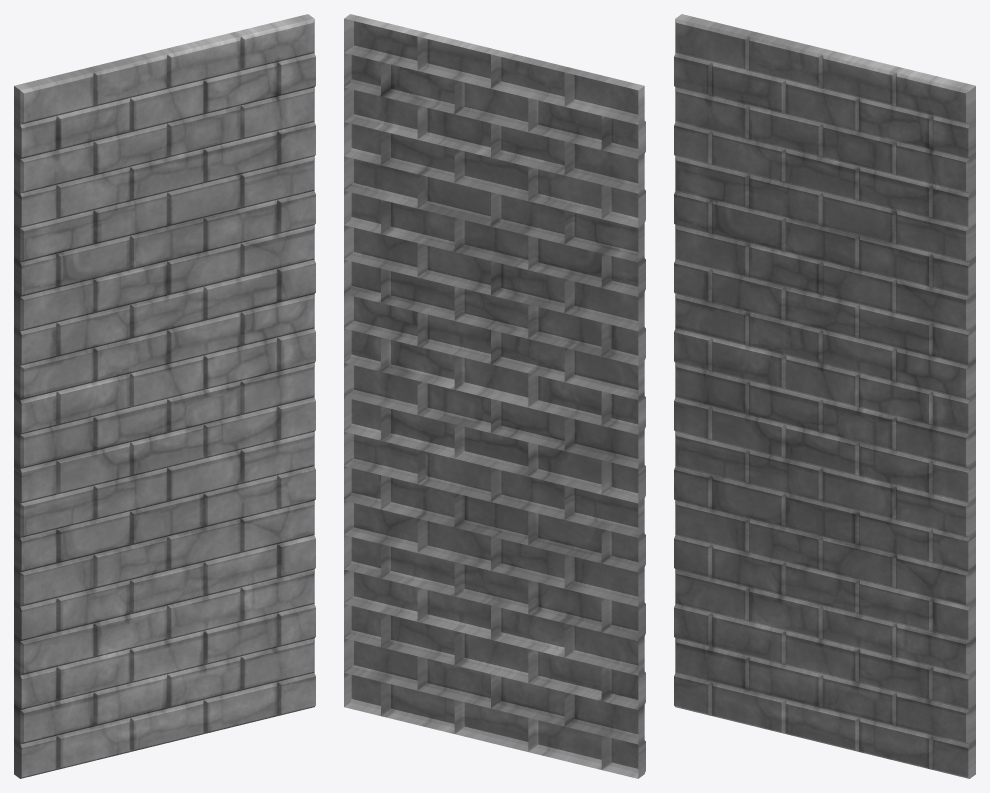
Rendered from Parede 1.fbx.
3 renders of one model, left to right at view 1: azimuth 30°, elevation 25°; view 2: azimuth 150°, elevation 25°; view 3: azimuth 330°, elevation 25°, orthographic.
Visible parts, largest first — view 1: Parede; view 2: Parede; view 3: Parede.
Part boxes in pixels (x1,y1,x2,y2): Parede: [14, 14, 315, 778]; Parede: [344, 14, 645, 778]; Parede: [674, 14, 975, 778].
Size of the model in its own units: 744 by 1663 by 33.68.
1 material, 1 textured.
